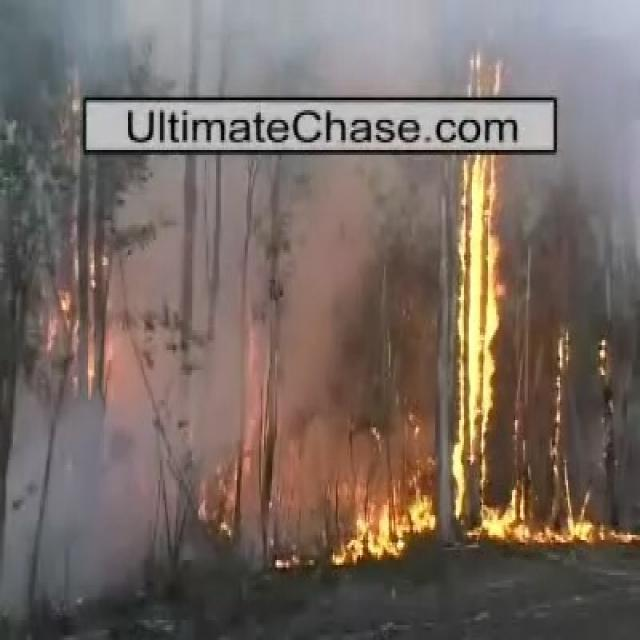fire: (454, 160, 494, 520), (332, 502, 437, 565)
smoke: (16, 412, 102, 611), (512, 3, 634, 94)
